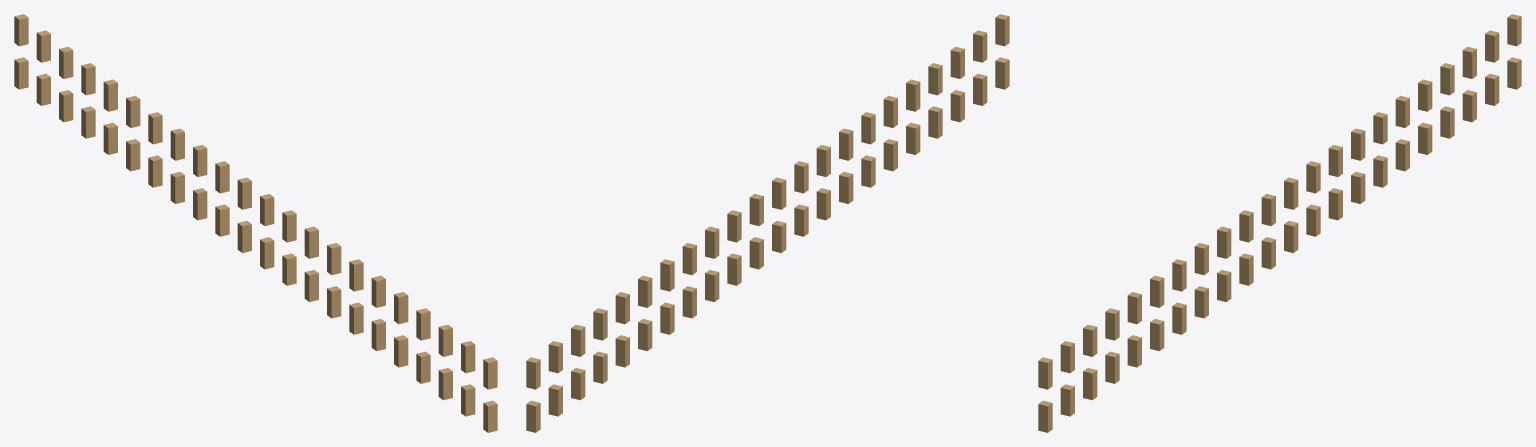
Rendered from ArcadeE_Wall.fbx.
The picture shows the model from 3 angles, left to right: view 1: azimuth 30°, elevation 25°; view 2: azimuth 150°, elevation 25°; view 3: azimuth 330°, elevation 25°; orthographic projection.
Parts seen in each view (by area): view 1: PierE0_-28.001; view 2: PierE0_-28.001; view 3: PierE0_-28.001.
Boxes of the visible parts, x1,y1,x2,y2 form: PierE0_-28.001: (14, 14, 497, 432); PierE0_-28.001: (526, 14, 1009, 432); PierE0_-28.001: (1038, 14, 1521, 432).
Size of the model in its own units: 300 by 2100 by 25800.
